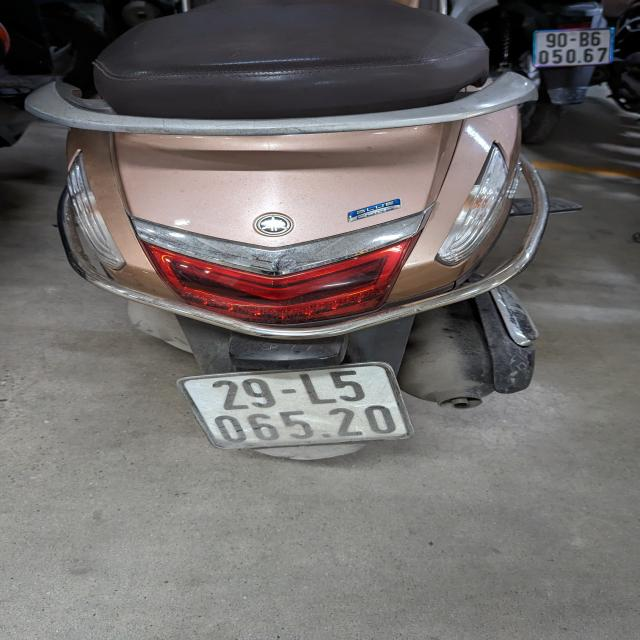License: (175, 361, 414, 451)
